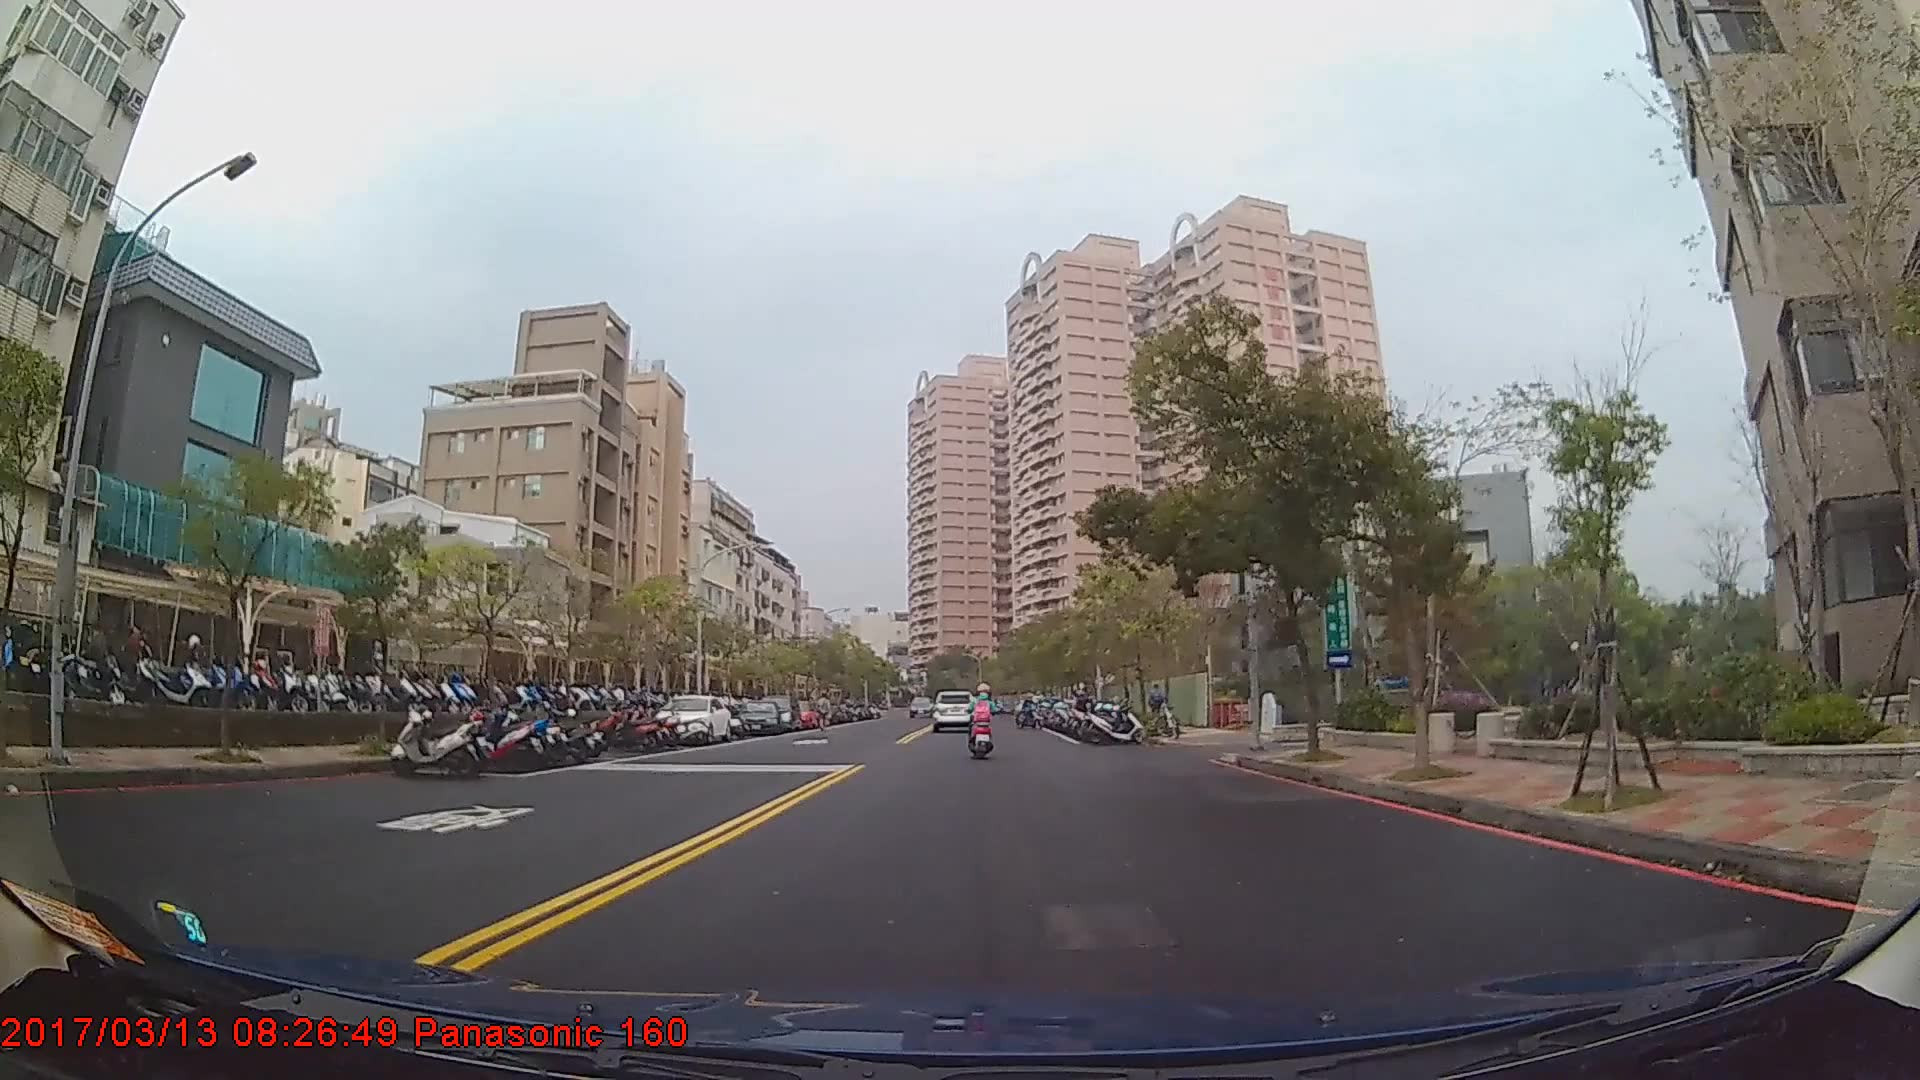pedestrian: (1144, 680, 1171, 740)
rider: (968, 682, 999, 758)
vehicle: (652, 694, 732, 746), (928, 687, 978, 731), (732, 698, 784, 736), (753, 692, 801, 732)
